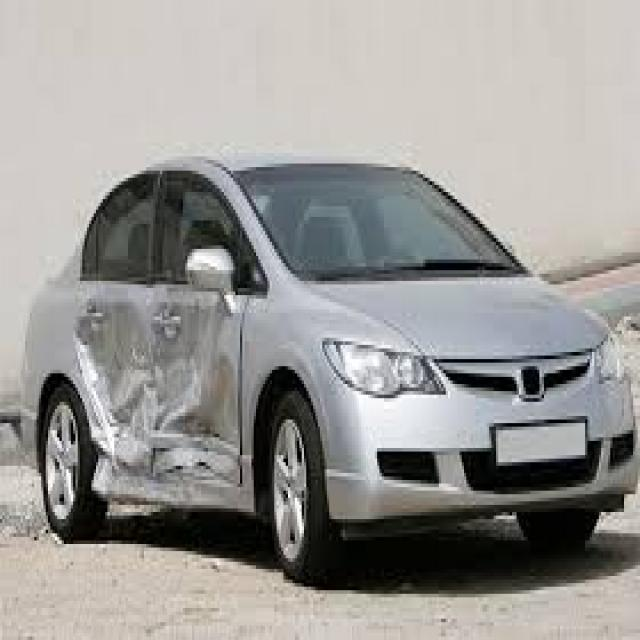minor: (61, 293, 337, 576)
